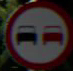No overtake: (6, 4, 66, 58)
